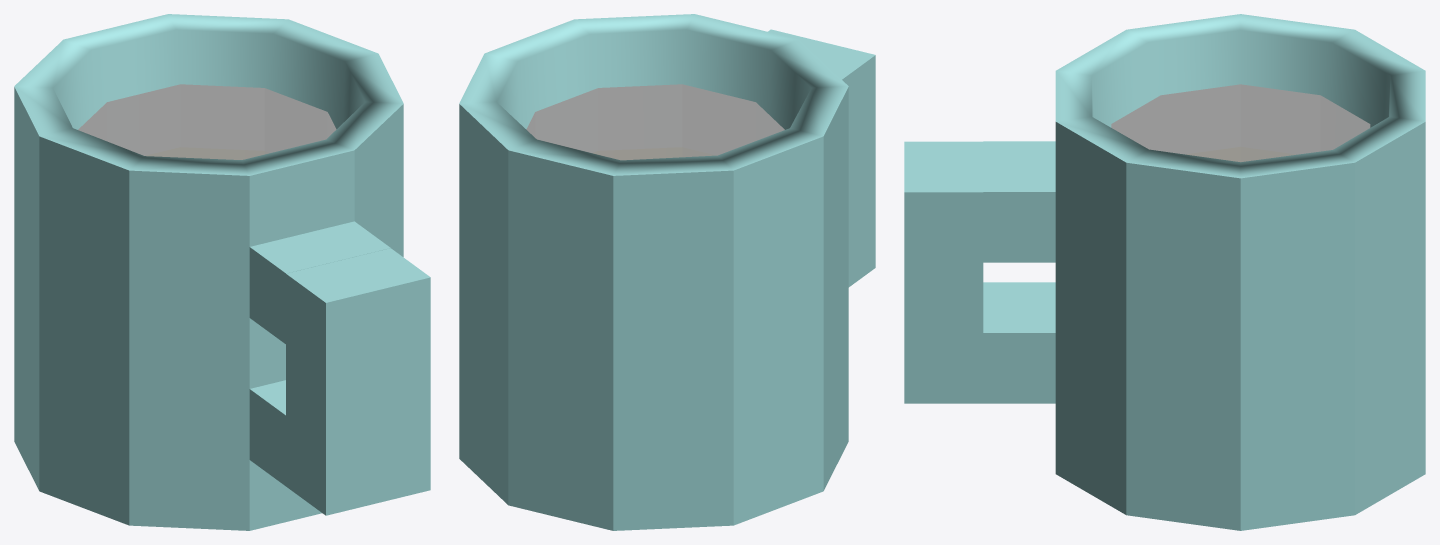
File: Pint3quaters.fbx
3 views of the same model, side by side, from view 1: azimuth 30°, elevation 25°; view 2: azimuth 150°, elevation 25°; view 3: azimuth 270°, elevation 25° (orthographic).
Parts seen in each view (by area): view 1: pCylinder1, pCylinder2; view 2: pCylinder1, pCylinder2; view 3: pCylinder1, pCylinder2.
Boxes of the visible parts, <box> form: pCylinder1: <box>14,14,430,530</box>; pCylinder2: <box>78,84,336,159</box>; pCylinder1: <box>459,14,875,530</box>; pCylinder2: <box>526,84,784,160</box>; pCylinder1: <box>904,14,1425,530</box>; pCylinder2: <box>1111,84,1370,162</box>.
Size of the model in its own units: 2 by 2 by 2.68.
